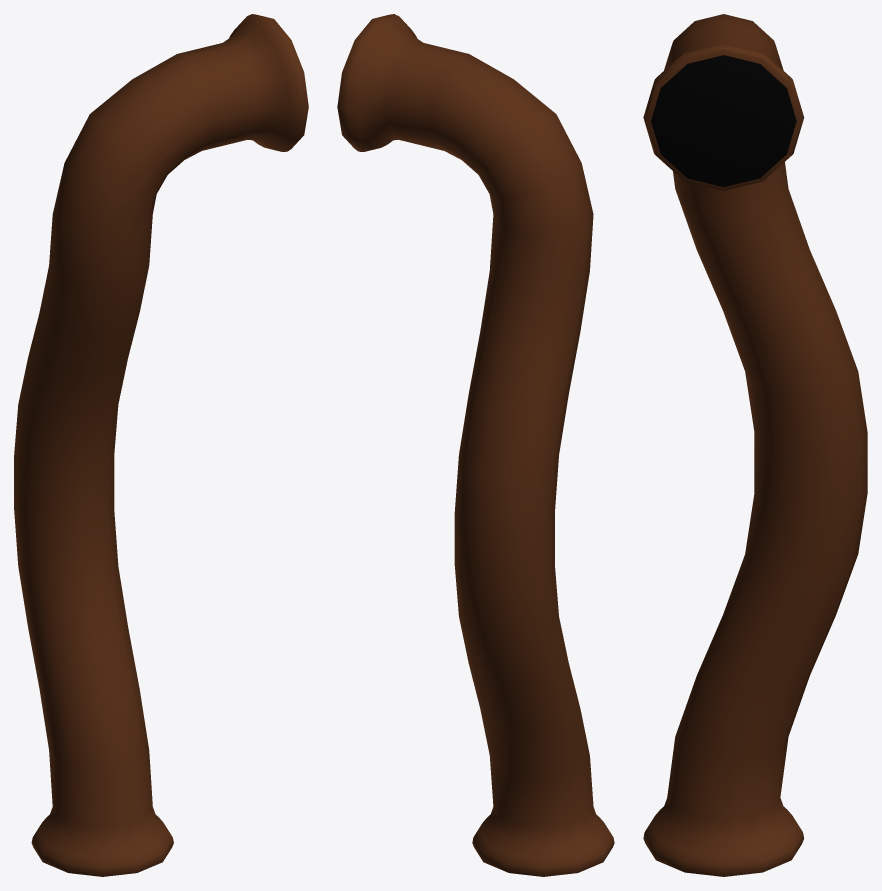
File: Pipe_Curve_1x1_4m_Bent_L.fbx
3 renders of one model, left to right at view 1: azimuth 30°, elevation 25°; view 2: azimuth 150°, elevation 25°; view 3: azimuth 270°, elevation 25°, orthographic. The views are drawn at different scales.
Parts seen in each view (by area): view 1: Pipe_Curve_1x1_4m_Bent_L; view 2: Pipe_Curve_1x1_4m_Bent_L; view 3: Pipe_Curve_1x1_4m_Bent_L.
Part boxes in pixels (box(x1,y1,x2,y2)): Pipe_Curve_1x1_4m_Bent_L: box(14, 14, 308, 876); Pipe_Curve_1x1_4m_Bent_L: box(337, 14, 614, 876); Pipe_Curve_1x1_4m_Bent_L: box(643, 14, 867, 876).
Size of the model in its own units: 136 by 436 by 99.05.
